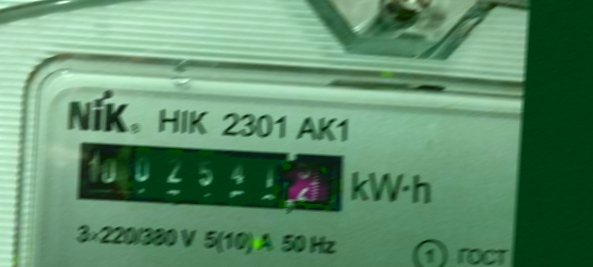0: (131, 151, 152, 185), (100, 154, 119, 185)
1: (259, 156, 277, 190)
2: (162, 152, 185, 187)
4: (228, 155, 247, 187)
5: (196, 156, 214, 189)
6: (293, 182, 311, 204)
screen: (61, 123, 366, 233)
